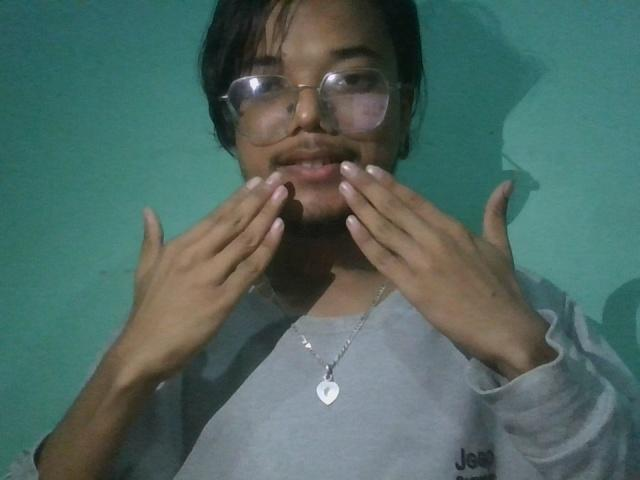Thank You: (82, 142, 557, 421)
